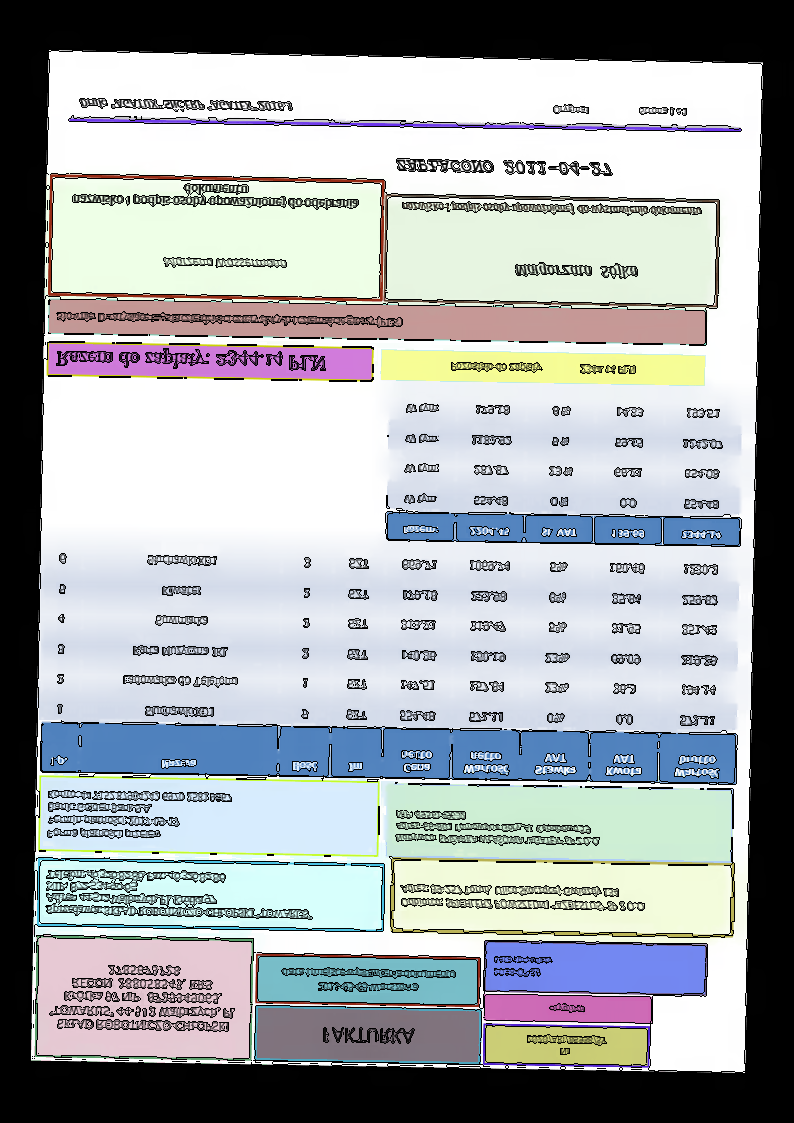Table: (39, 536, 742, 786), (385, 388, 744, 548)
TextBox: (43, 865, 314, 922), (48, 960, 239, 1034), (45, 788, 233, 844), (69, 180, 362, 213), (397, 879, 649, 916), (54, 345, 328, 379), (392, 807, 603, 850), (55, 307, 404, 332), (399, 199, 704, 220), (394, 155, 613, 179), (280, 966, 456, 995), (447, 358, 638, 380), (78, 96, 294, 115), (550, 101, 691, 122), (513, 262, 639, 283), (160, 254, 290, 274), (524, 1031, 608, 1061), (319, 1024, 418, 1047), (491, 952, 553, 981), (547, 1001, 586, 1017)
